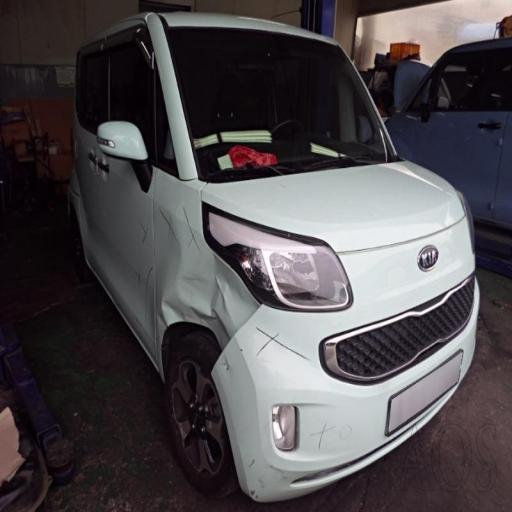broken: (144, 202, 328, 462)
